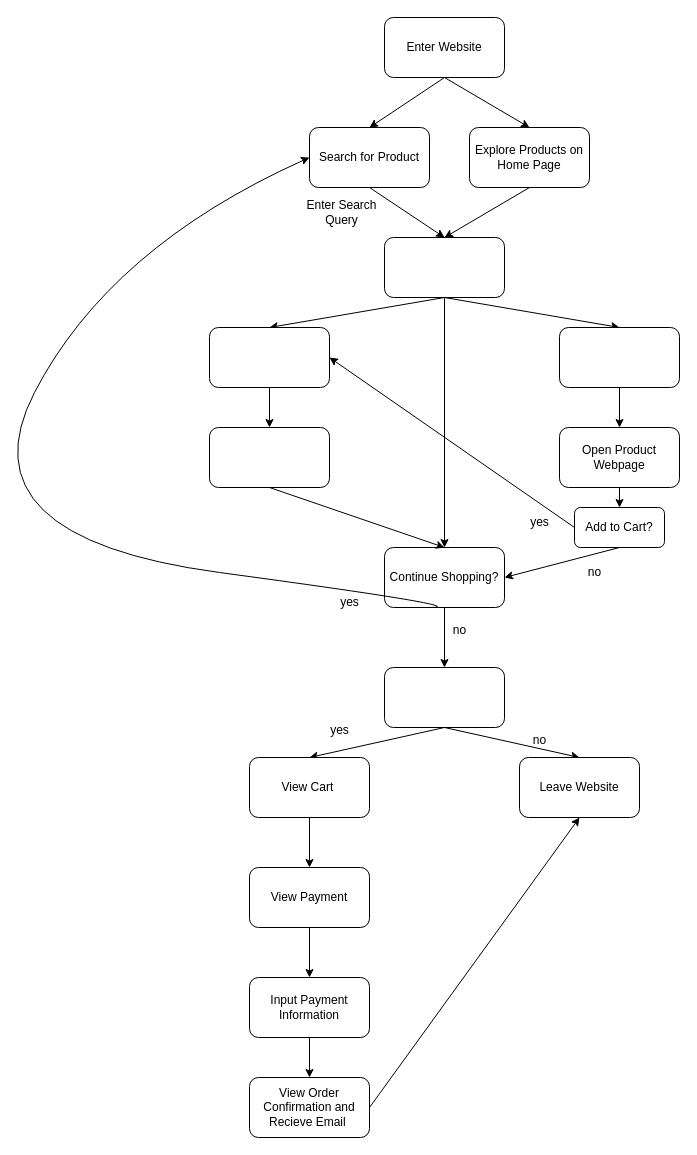
Some shapes in this 697 by 1155 pixel diagram are drawn without their labels. Here are the shapes that lost their labels. From the top down, the box of each, then its label:
(384, 236, 504, 298): View Product(s)
(208, 326, 330, 388): Add Product to Cart
(558, 326, 680, 388): View Specific Product
(208, 426, 330, 488): Recieve Cart Confirmation
(384, 666, 504, 728): Checkout?
